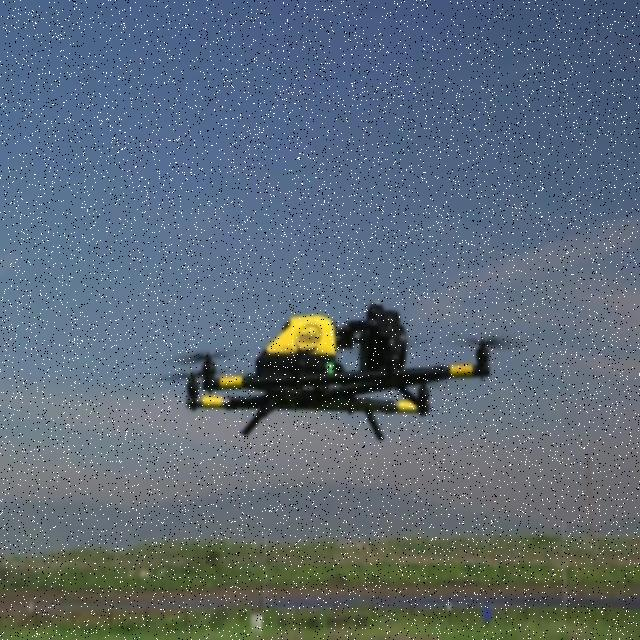UAV: (152, 301, 528, 441)
